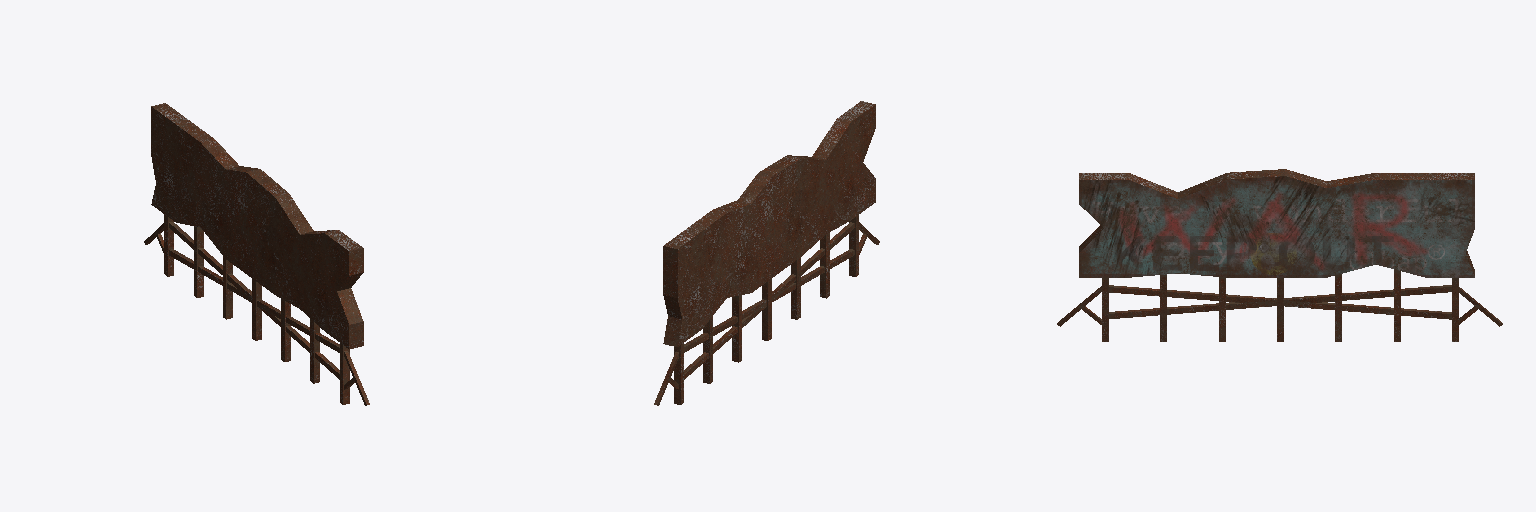
3 views of the same model, side by side, from view 1: azimuth 30°, elevation 25°; view 2: azimuth 150°, elevation 25°; view 3: azimuth 270°, elevation 25° (orthographic).
Parts seen in each view (by area): view 1: Box136, Box140; view 2: Box136, Box140; view 3: Box136, Box140.
Boxes of the visible parts, x1,y1,x2,y2 form: Box136: [151, 103, 363, 349]; Box140: [144, 214, 369, 405]; Box136: [663, 101, 875, 346]; Box140: [654, 215, 879, 405]; Box136: [1079, 169, 1474, 277]; Box140: [1057, 270, 1502, 341].
Bounding box in the file's own units: 2.96 × 33.12 × 80.35.
1 materials, 1 textured.